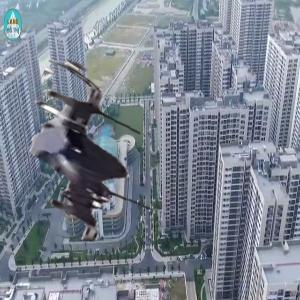drone: (11, 79, 188, 256)
